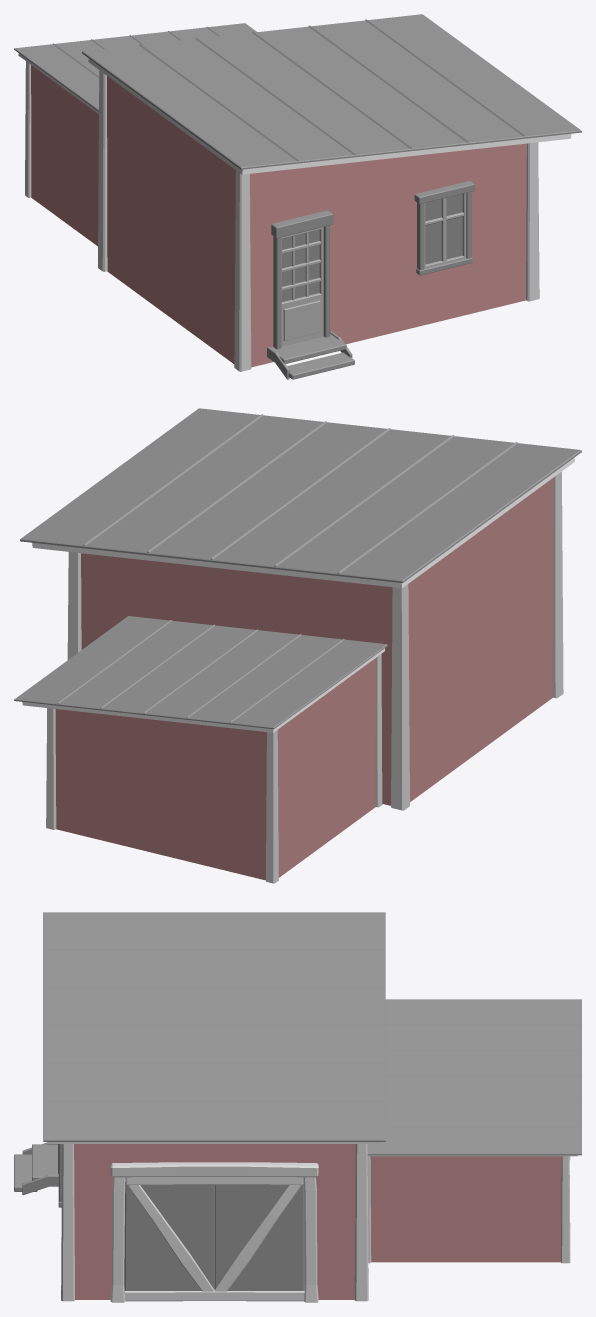
File: fp_forge_workshop.glb
3 renders of one model, top to bottom at view 1: azimuth 30°, elevation 25°; view 2: azimuth 150°, elevation 25°; view 3: azimuth 270°, elevation 25°, orthographic. The views are drawn at different scales.
Parts seen in each view (by area): view 1: Box1991, Shape037, Box1998, Box1992, Plane074, garage_a02_001, Shape036, Box1994; view 2: Box1991, Shape037, Box1998, Shape036; view 3: Shape037, Box1991, Box1998, garage_a02_001, Box1994, Shape036.
Part boxes in pixels (x1,y1,x2,y2): Box1991: (31, 65, 526, 367); Shape037: (14, 14, 581, 169); Box1998: (25, 61, 539, 371); Box1992: (271, 181, 474, 349); Plane074: (281, 193, 466, 346); garage_a02_001: (282, 194, 462, 301); Shape036: (18, 53, 571, 174); Box1994: (267, 331, 354, 379); Box1991: (55, 478, 553, 880); Shape037: (14, 408, 581, 729); Box1998: (46, 471, 563, 883); Shape036: (22, 458, 574, 732); Shape037: (43, 912, 581, 1155); Box1991: (74, 1144, 561, 1299); Box1998: (61, 1144, 570, 1302); garage_a02_001: (124, 1177, 304, 1290); Box1994: (14, 1142, 59, 1195); Shape036: (48, 1142, 577, 1156).
Bounding box in the file's own units: 1.3 × 0.7828 × 1.75.
